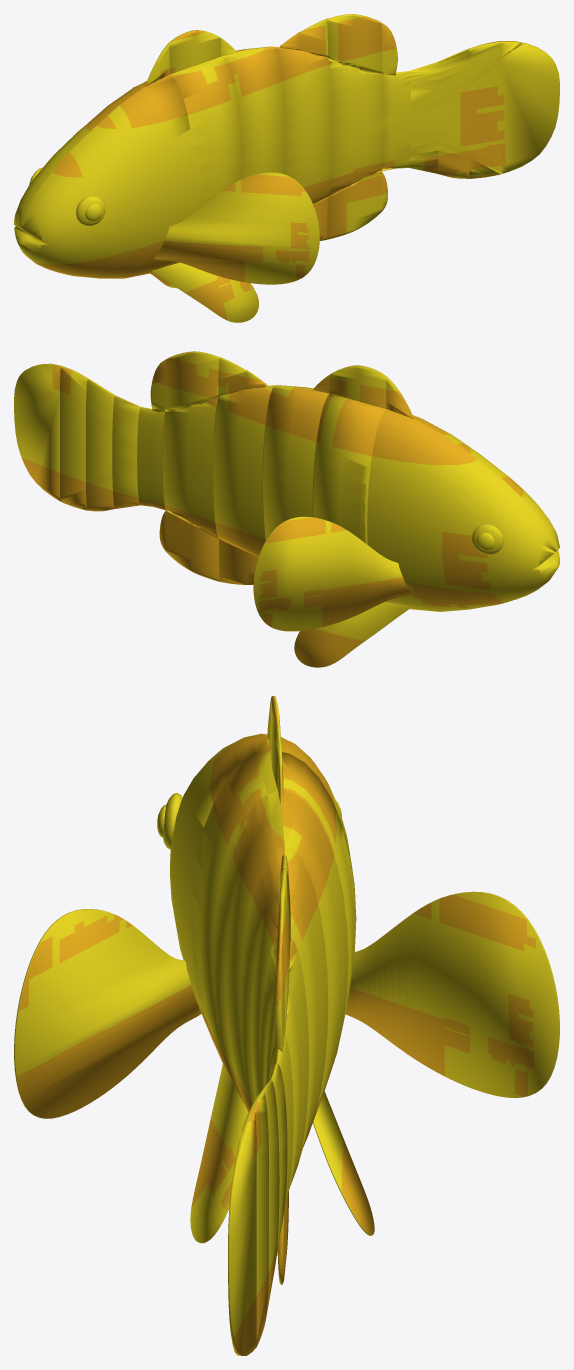
File: fish1.obj
The picture shows the model from 3 angles, top to bottom: view 1: azimuth 30°, elevation 25°; view 2: azimuth 150°, elevation 25°; view 3: azimuth 270°, elevation 25°; orthographic projection. The views are drawn at different scales.
Parts seen in each view (by area): view 1: clownfish_dxf_001; view 2: clownfish_dxf_001; view 3: clownfish_dxf_001.
Part boxes in pixels (x1,y1,x2,y2): clownfish_dxf_001: (14, 14, 559, 322); clownfish_dxf_001: (14, 351, 559, 667); clownfish_dxf_001: (14, 696, 559, 1355).
Size of the model in its own units: 8.85 by 4.43 by 4.36.
